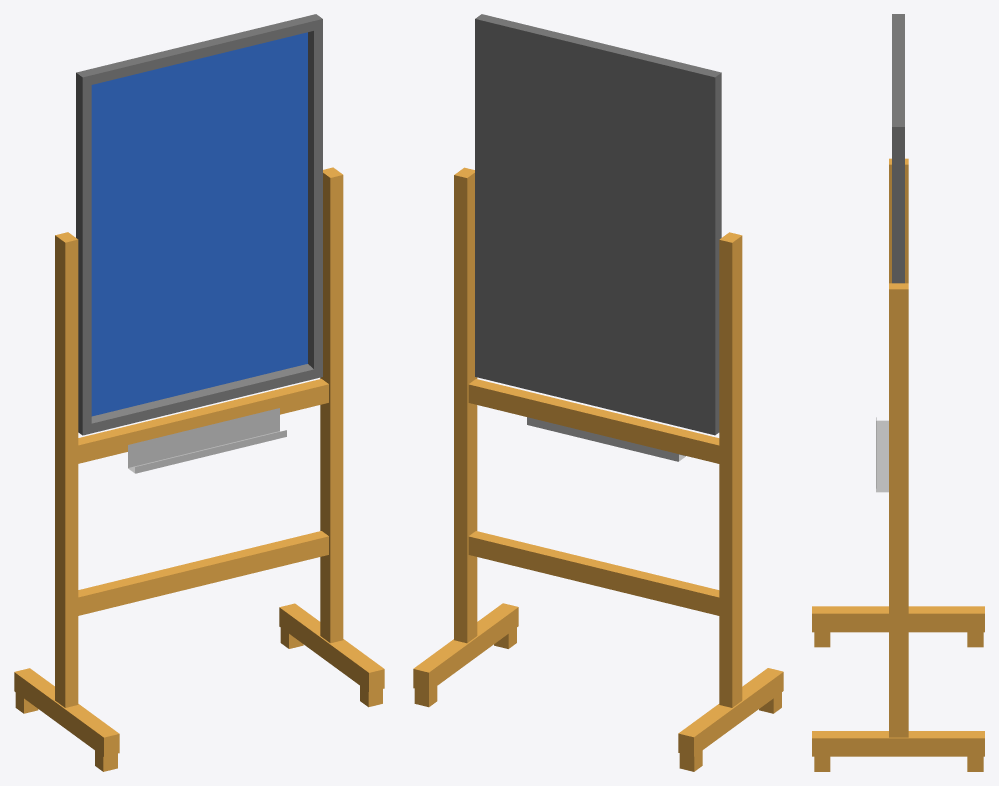
The model's file is Pizarra.fbx.
3 renders of one model, left to right at view 1: azimuth 30°, elevation 25°; view 2: azimuth 150°, elevation 25°; view 3: azimuth 270°, elevation 25°, orthographic. The views are drawn at different scales.
Visible parts, largest first — view 1: Pizarra; view 2: Pizarra; view 3: Pizarra.
Boxes of the visible parts, <box> form: Pizarra: <box>14,14,384,771</box>; Pizarra: <box>413,14,783,771</box>; Pizarra: <box>812,14,984,771</box>.
Size of the model in its own units: 95.29 by 214 by 52.76.
